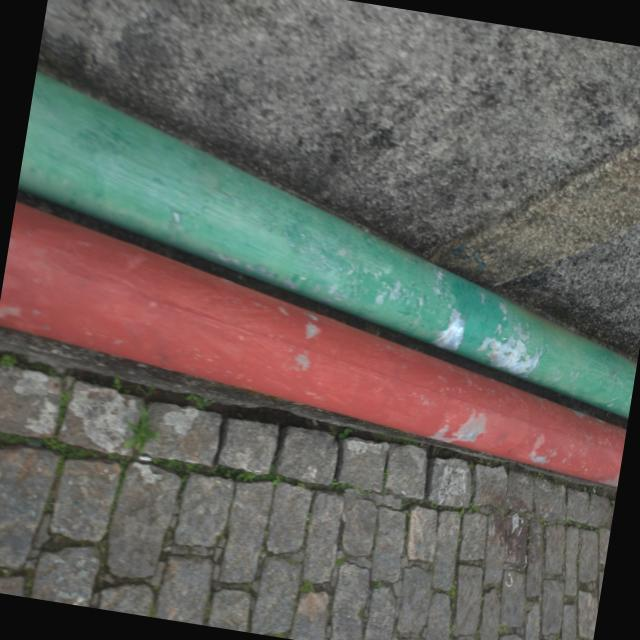gas: (22, 73, 639, 411), (0, 209, 626, 490)
